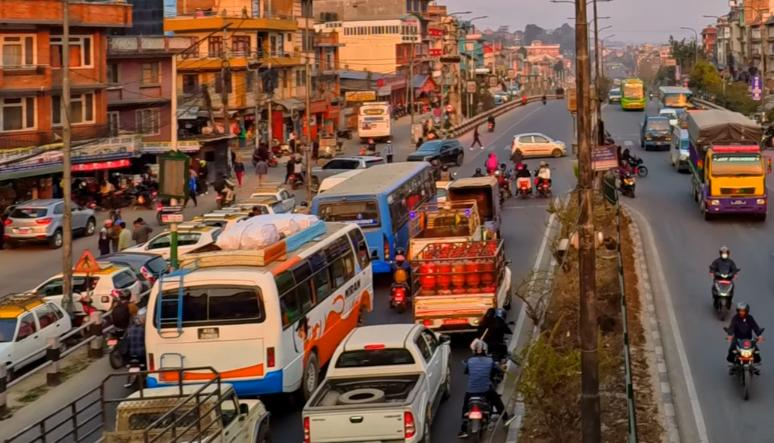bus: (141, 213, 384, 399)
